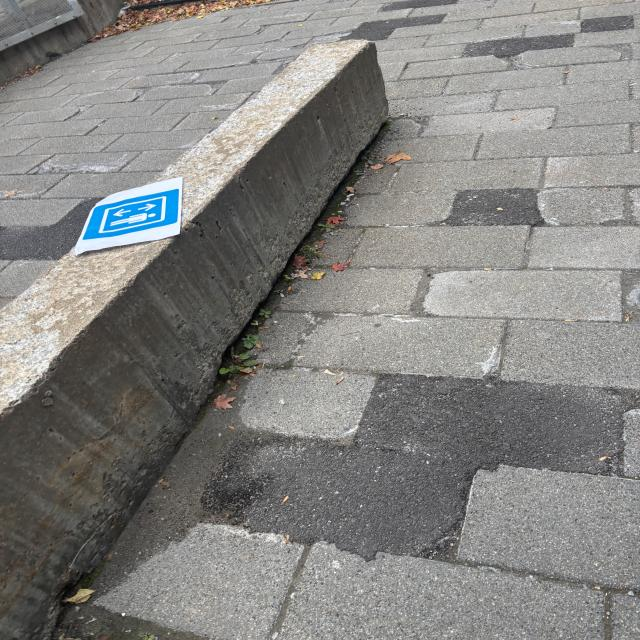elevator: (83, 188, 178, 240)
